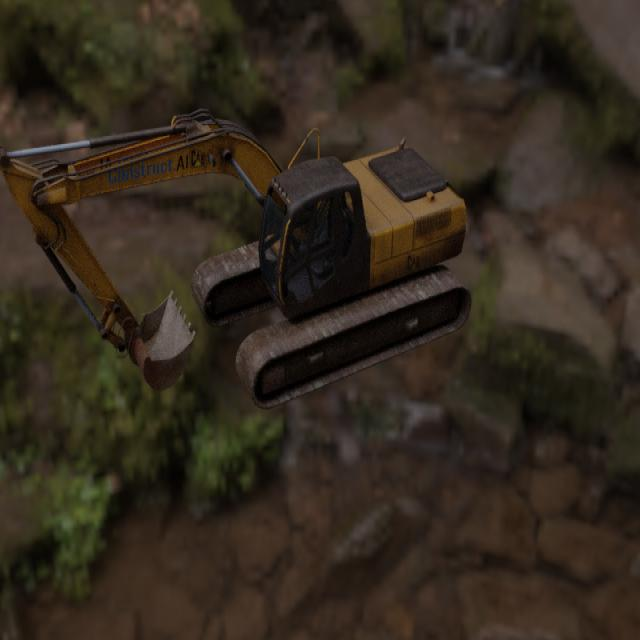excavator: (0, 108, 473, 409)
